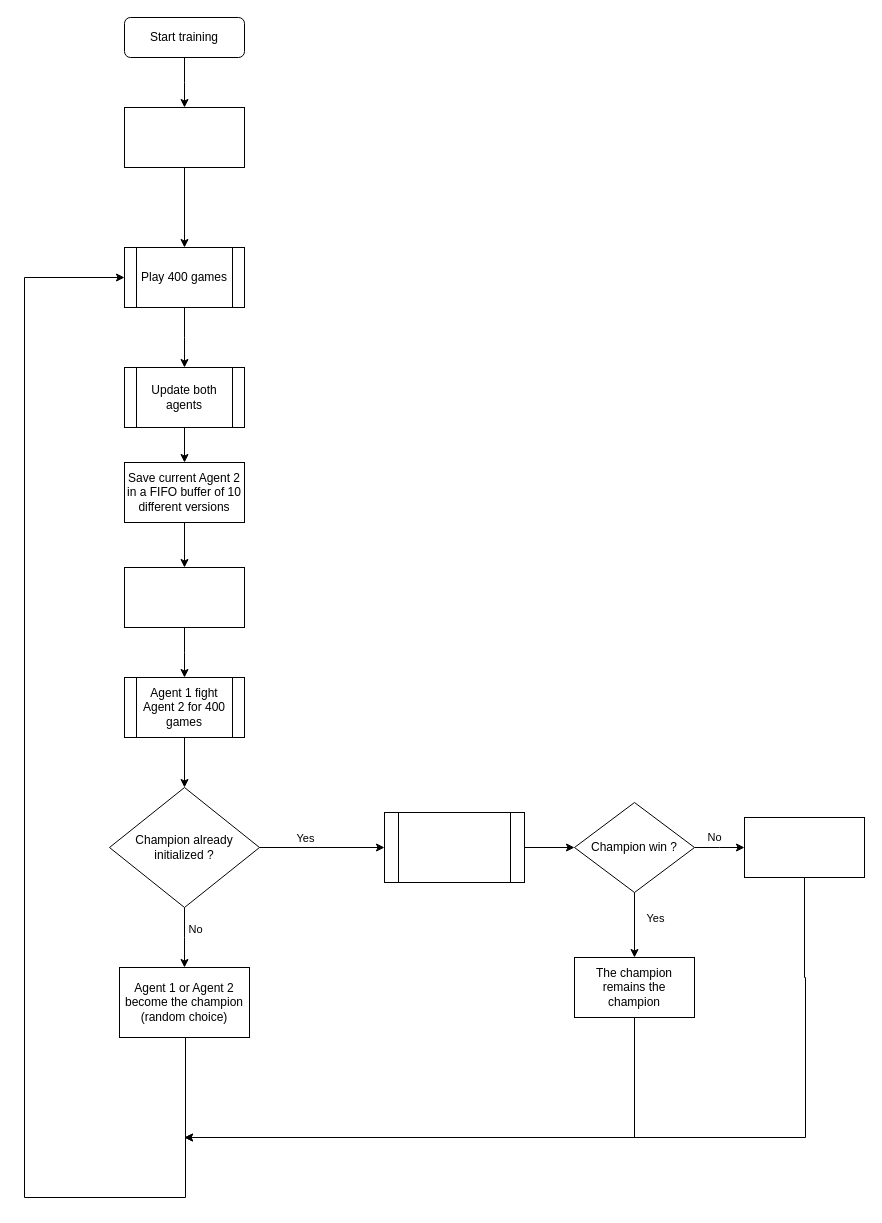
The diagram is 882 pixels wide and 1223 high, and some of its shapes have lost their labels. Each missing label, with the box of its shape:
Current Agent 2 go back to one of its previous versions choosed randomly: (124, 566, 244, 628)
Initialize Agent 1 and Agent 2: (124, 106, 244, 168)
The agent become the champion: (744, 816, 864, 878)
The winner of the previous fight plays against champion for 400 games: (384, 812, 524, 882)
